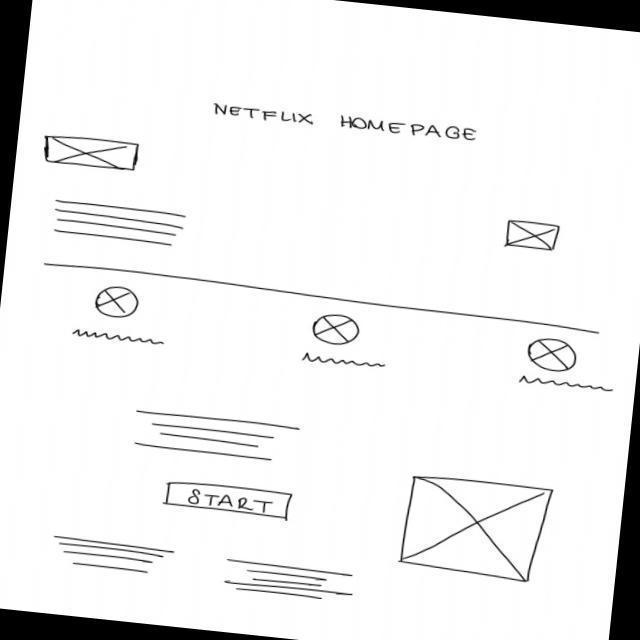button: (162, 478, 295, 522)
image: (398, 472, 556, 586), (41, 132, 141, 174), (526, 335, 581, 376), (503, 217, 562, 255), (309, 311, 362, 348), (93, 283, 143, 321)
label: (210, 101, 481, 145)
text: (517, 374, 619, 398), (300, 351, 390, 372), (71, 329, 167, 348)
textbox: (130, 407, 303, 466), (216, 554, 360, 608), (50, 197, 190, 251), (50, 532, 180, 580)
